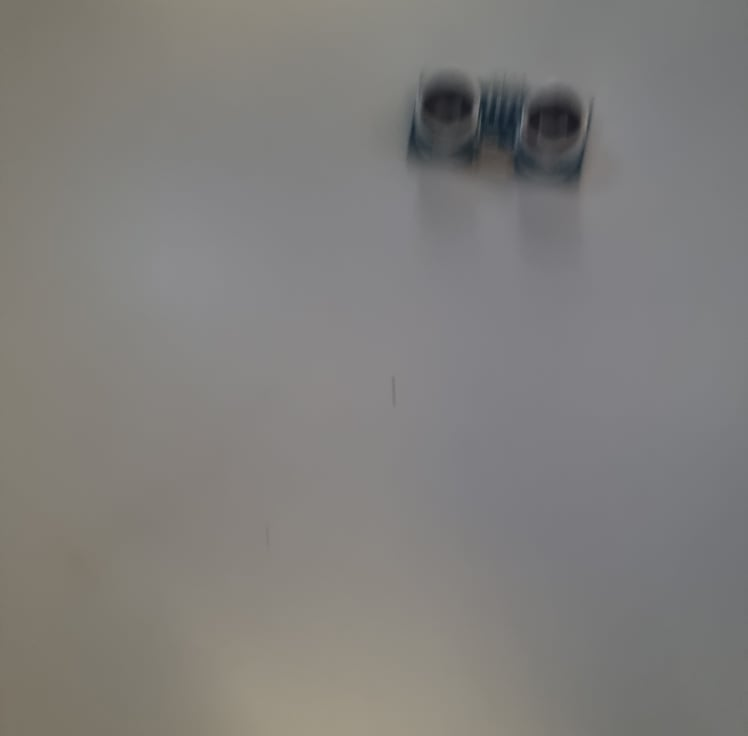SENSOR: (404, 60, 597, 180)
